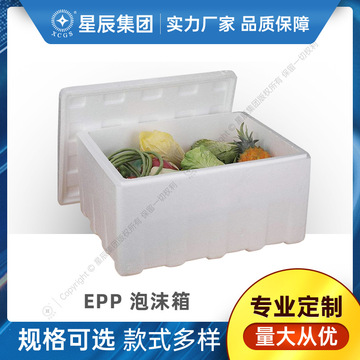泡沫箱: (58, 71, 310, 273)
